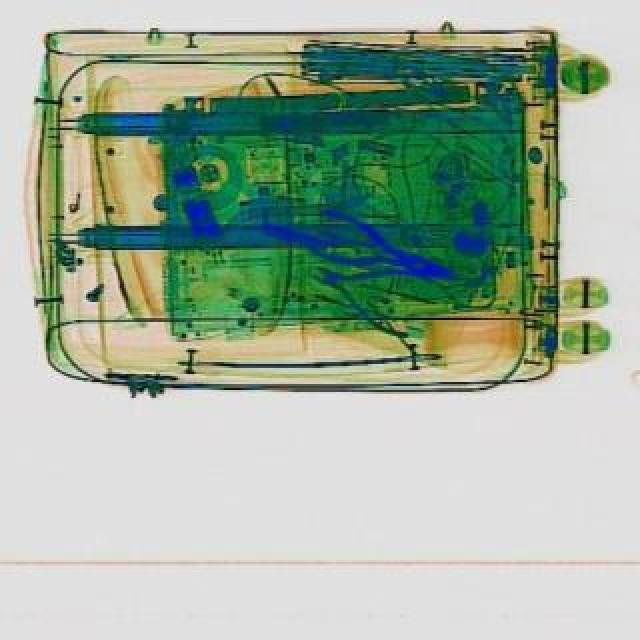wrench: (300, 208, 464, 304), (298, 242, 434, 342)
